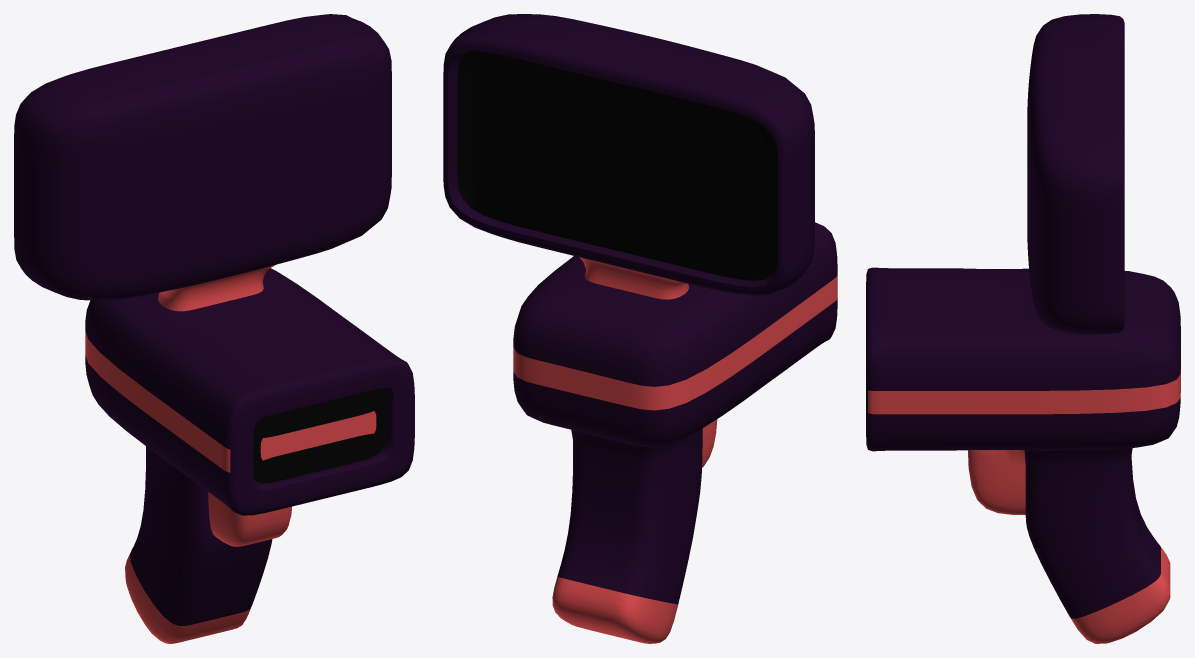
The model's file is Scanner.fbx.
3 views of the same model, side by side, from view 1: azimuth 30°, elevation 25°; view 2: azimuth 150°, elevation 25°; view 3: azimuth 270°, elevation 25° (orthographic). The views are drawn at different scales.
Parts seen in each view (by area): view 1: Laser; view 2: Laser; view 3: Laser.
Part boxes in pixels (x1,y1,x2,y2): Laser: (14, 14, 414, 643); Laser: (443, 14, 837, 643); Laser: (866, 14, 1180, 643).
Size of the model in its own units: 737 by 1155 by 598.
